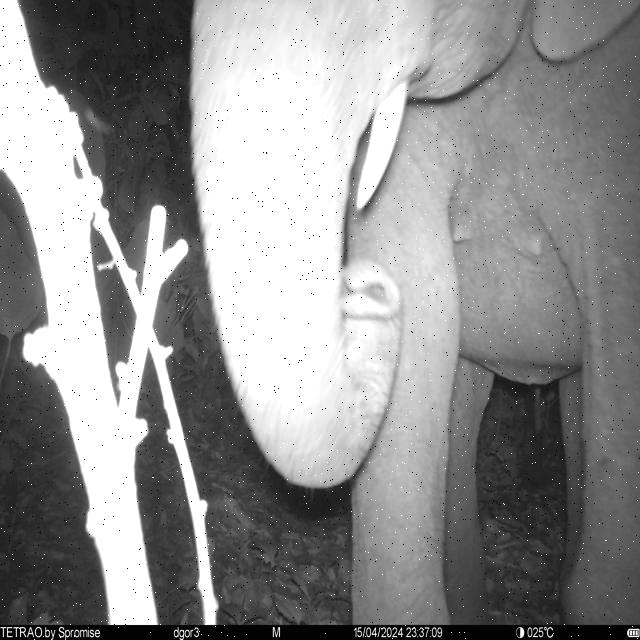elephant: (189, 0, 640, 624)
tusk: (353, 78, 412, 216)
